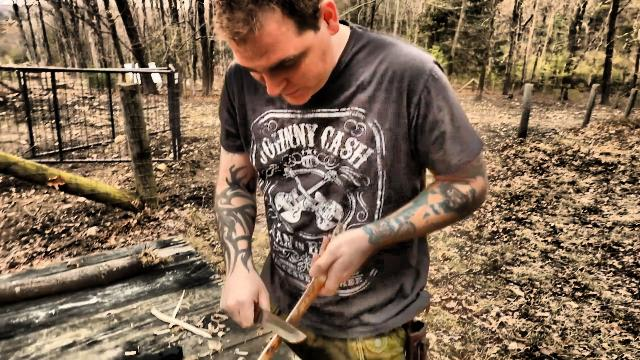knife: (216, 286, 312, 350)
